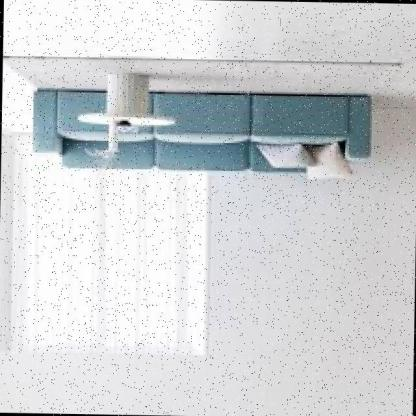Sofa: (9, 72, 384, 187)
